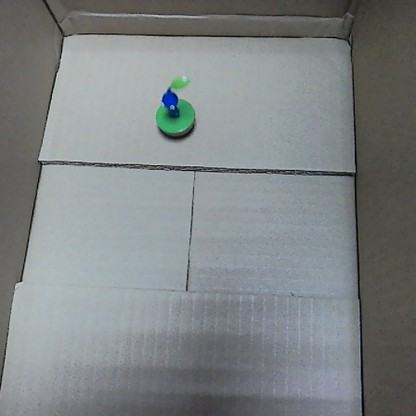leafairy: (150, 72, 199, 140)
